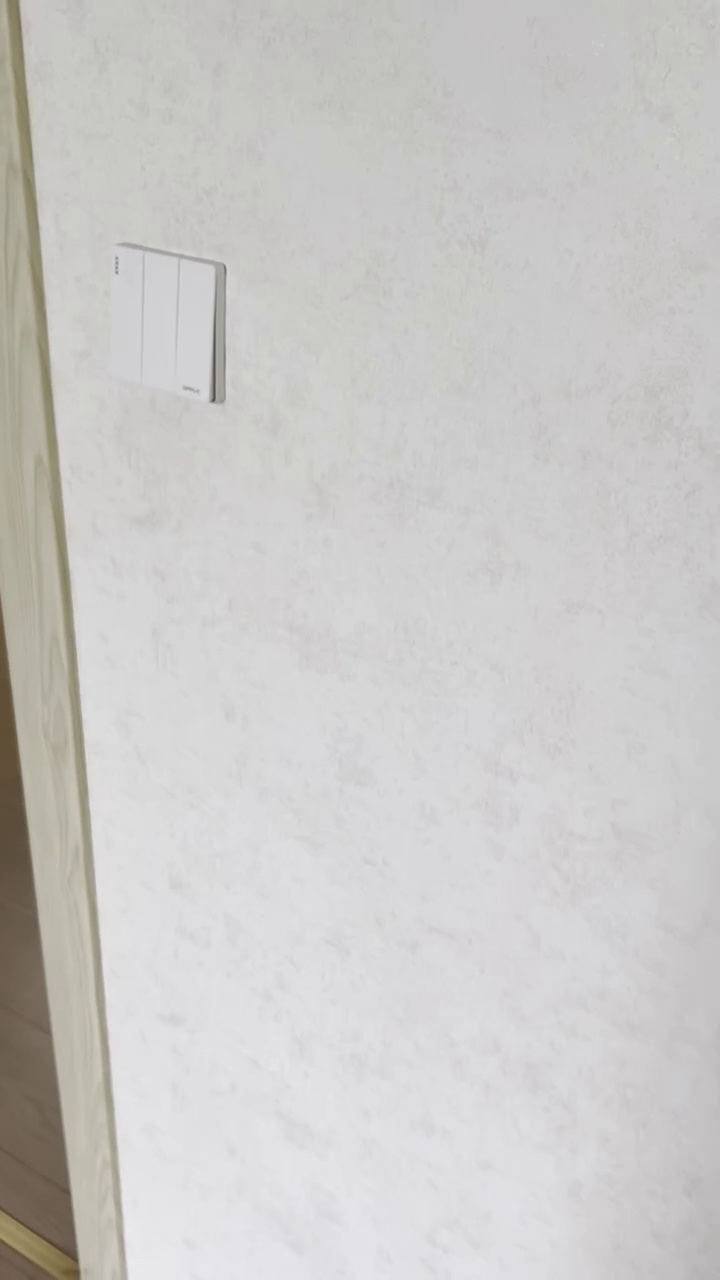button: (98, 242, 232, 411)
